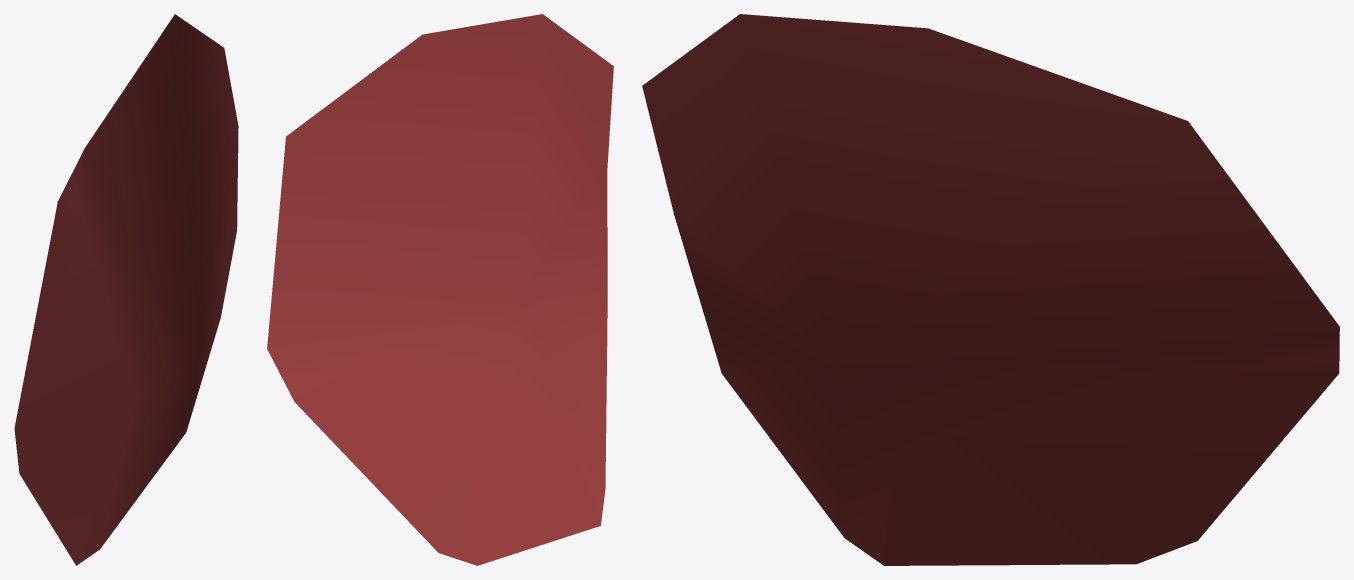
File: extensor-digitorum-longus-ol.glb
3 renders of one model, left to right at view 1: azimuth 30°, elevation 25°; view 2: azimuth 150°, elevation 25°; view 3: azimuth 270°, elevation 25°, orthographic. The views are drawn at different scales.
Visible parts, largest first — view 1: Extensor digitorum longus.ol; view 2: Extensor digitorum longus.ol; view 3: Extensor digitorum longus.ol.
Part boxes in pixels (left/top/right/bottom): Extensor digitorum longus.ol: left=14, top=14, right=238, bottom=565; Extensor digitorum longus.ol: left=267, top=14, right=613, bottom=565; Extensor digitorum longus.ol: left=642, top=14, right=1339, bottom=565.
Bounding box in the file's own units: 0.00612 × 0.0131 × 0.0128.
